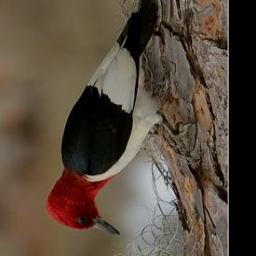Woodpecker: (43, 0, 198, 241)
